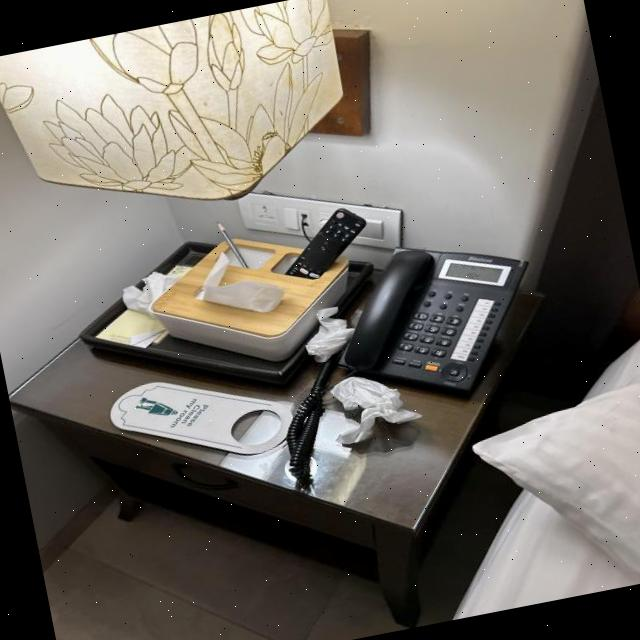lamp: (0, 0, 420, 244)
mess: (326, 374, 425, 450), (305, 308, 355, 363), (120, 271, 181, 316)
messy_table: (9, 236, 551, 627)
